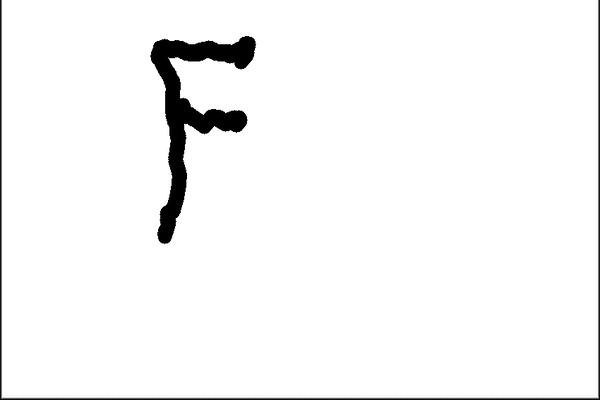F: (146, 32, 260, 248)
